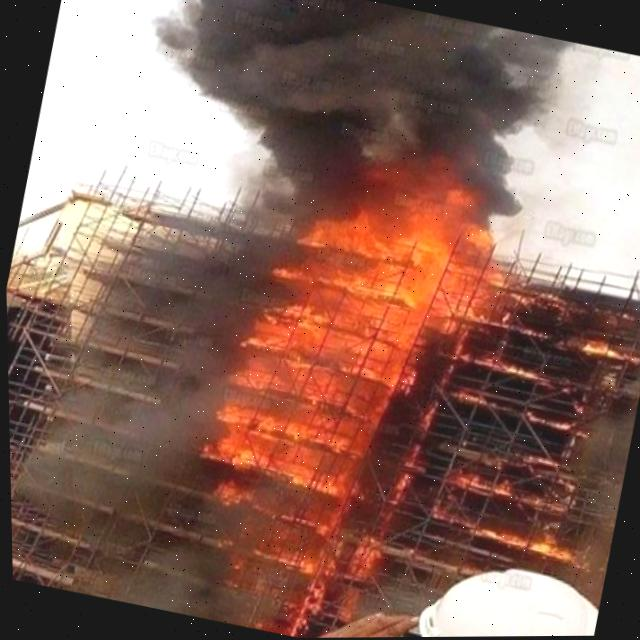fire: (191, 161, 511, 638)
smoke: (17, 0, 585, 628), (563, 341, 640, 608)
